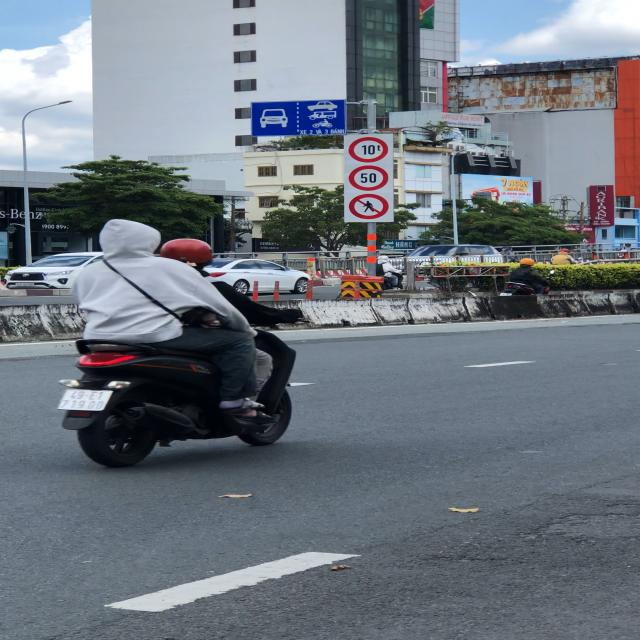Bien bao cam nguoi di bo: (346, 192, 392, 221)
Bien bao toc do toi da cho phep: (345, 163, 393, 192)
